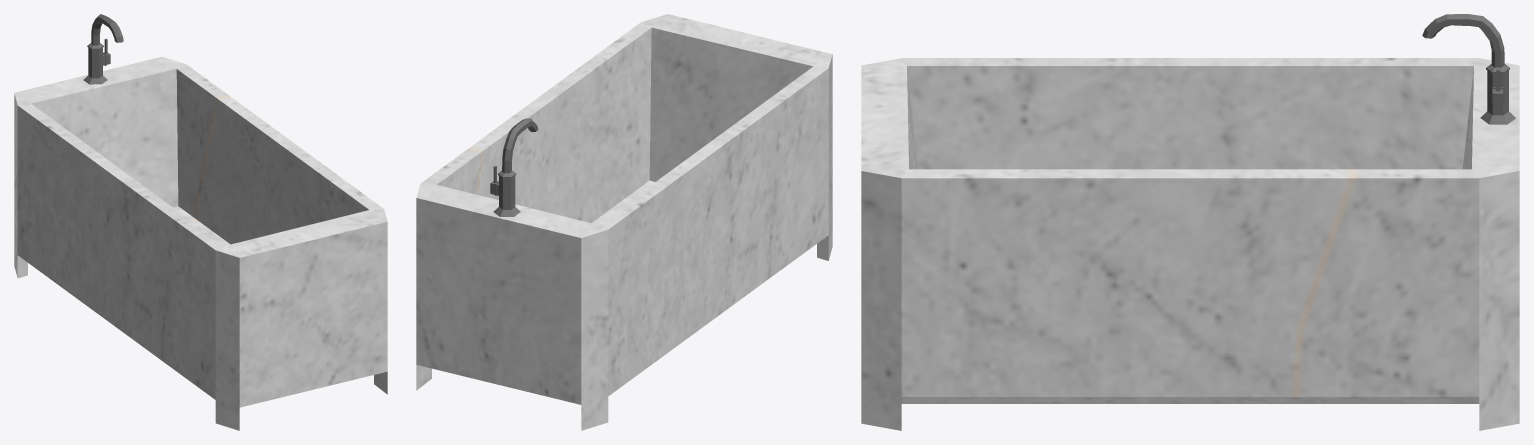
The model's file is banheira_finalizada 1.fbx.
3 views of the same model, side by side, from view 1: azimuth 30°, elevation 25°; view 2: azimuth 150°, elevation 25°; view 3: azimuth 270°, elevation 25° (orthographic). The views are drawn at different scales.
Parts seen in each view (by area): view 1: banheira; view 2: banheira; view 3: banheira.
Part boxes in pixels (x1=…): banheira: x1=14, y1=14, x2=387, y2=430; banheira: x1=416, y1=14, x2=832, y2=430; banheira: x1=861, y1=14, x2=1519, y2=430.
Bounding box in the file's own units: 281 × 389 × 651.
Materials: 1 (1 with a texture image).
